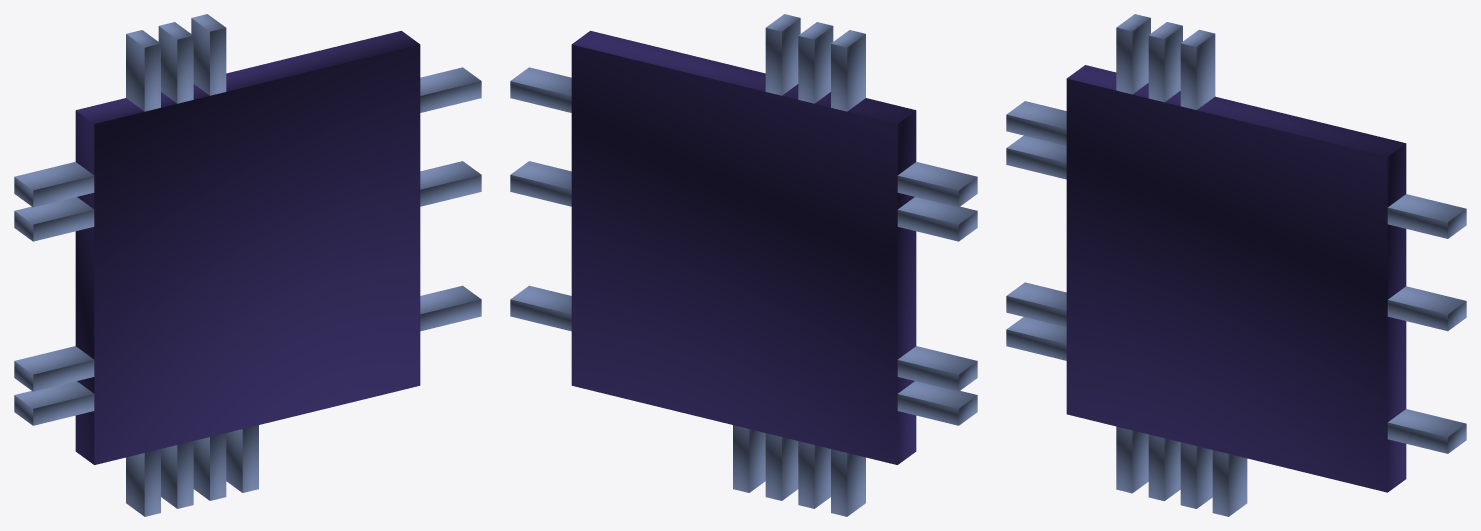
The model's file is 1967_microchip_v2.fbx.
3 renders of one model, left to right at view 1: azimuth 30°, elevation 25°; view 2: azimuth 150°, elevation 25°; view 3: azimuth 330°, elevation 25°, orthographic.
Visible parts, largest first — view 1: 1967_microchip; view 2: 1967_microchip; view 3: 1967_microchip.
Part boxes in pixels (<box>): 1967_microchip: <box>14,14,481,516</box>; 1967_microchip: <box>510,14,977,516</box>; 1967_microchip: <box>1006,14,1466,516</box>.
Bounding box in the file's own units: 275 × 275 × 20.
